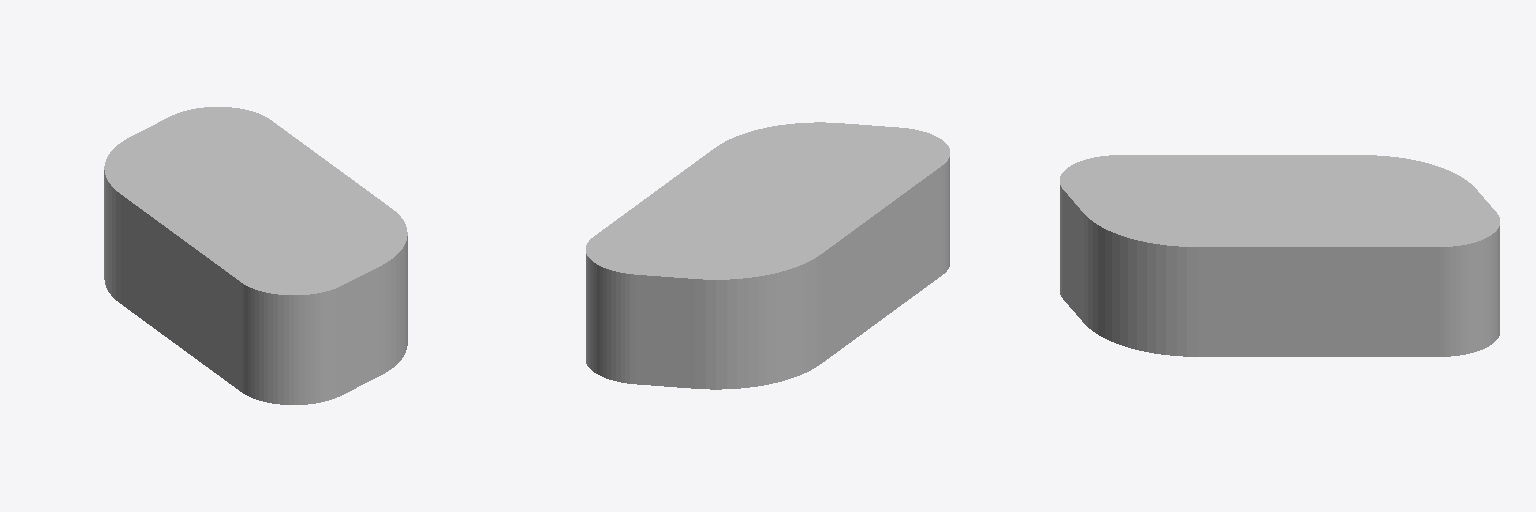
Rendered from guardBumperRight.obj.
The picture shows the model from 3 angles: view 1: azimuth 30°, elevation 25°; view 2: azimuth 150°, elevation 25°; view 3: azimuth 270°, elevation 25°; orthographic projection.
Visible parts, largest first — view 1: EntryGuide.011_Cube.123; view 2: EntryGuide.011_Cube.123; view 3: EntryGuide.011_Cube.123.
Part boxes in pixels (x1,y1,x2,y2): EntryGuide.011_Cube.123: (104,107,407,404); EntryGuide.011_Cube.123: (586,122,949,389); EntryGuide.011_Cube.123: (1060,155,1499,356).
Size of the model in its own units: 1.8 by 1 by 3.64.